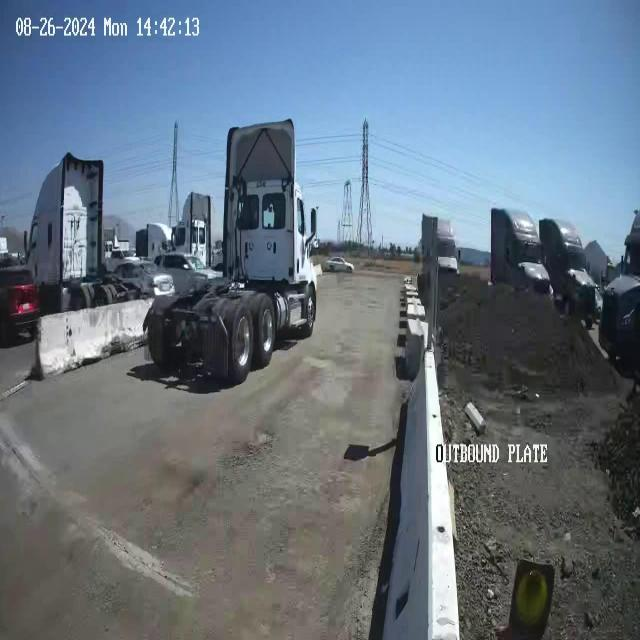BOBTAIL: (142, 117, 320, 386)
